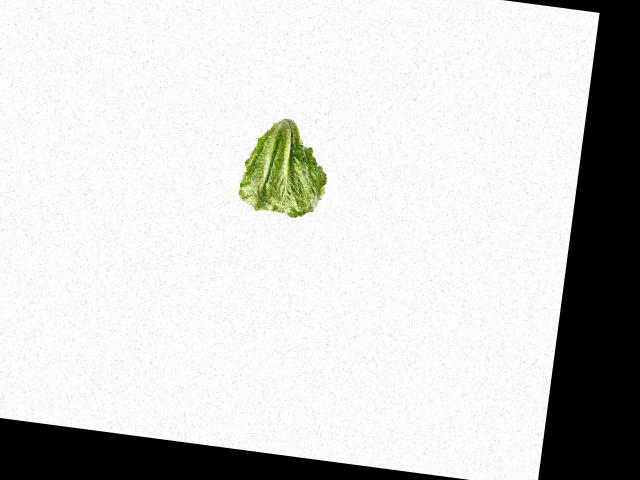lettuce: (239, 109, 337, 223)
